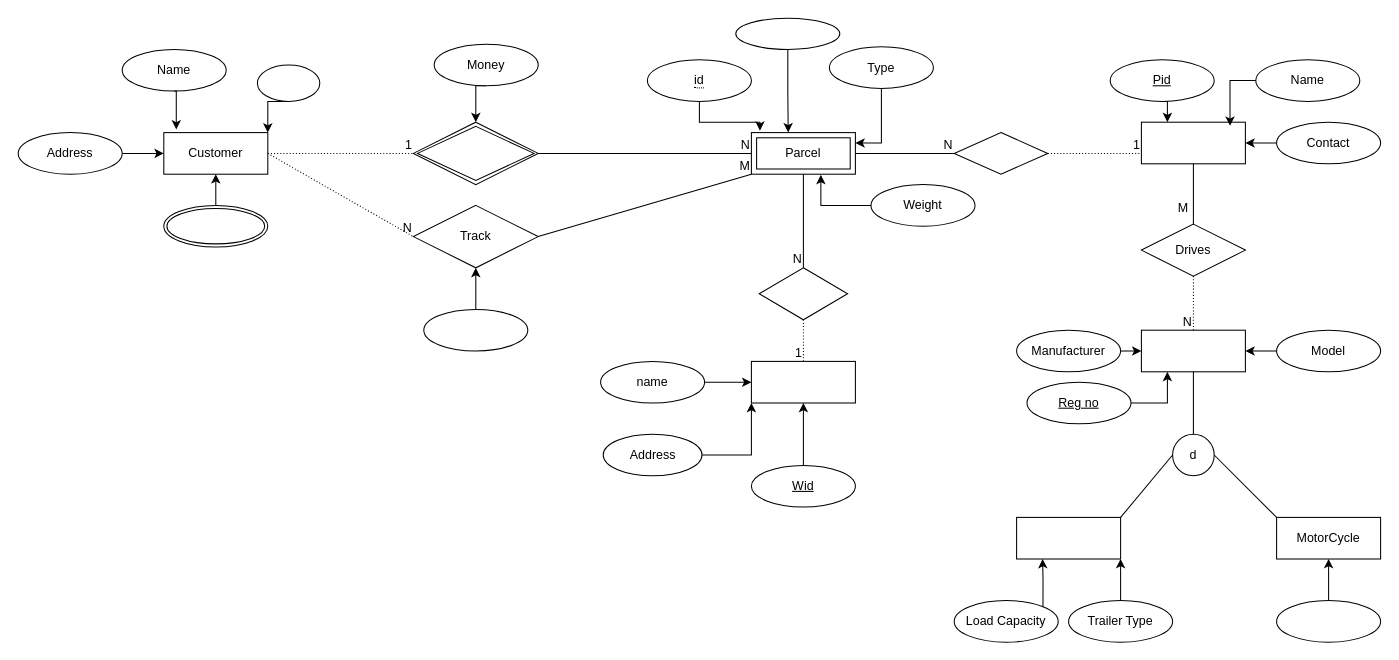
Image size: 1399x660. Some labels were removed from this diagram. Each missing label, with the box of its shape:
Cid: (256, 64, 320, 101)
Delivers: (953, 132, 1048, 174)
Engine Type: (1276, 600, 1381, 642)
Order: (412, 121, 538, 185)
Postman: (1140, 121, 1245, 164)
Status: (735, 17, 840, 49)
Stores: (758, 267, 848, 320)
Telephones: (163, 204, 268, 247)
Track_Id: (423, 308, 528, 351)
Truck: (1016, 516, 1121, 559)
Vehicle: (1140, 329, 1245, 372)
WareHouse: (750, 360, 855, 403)
